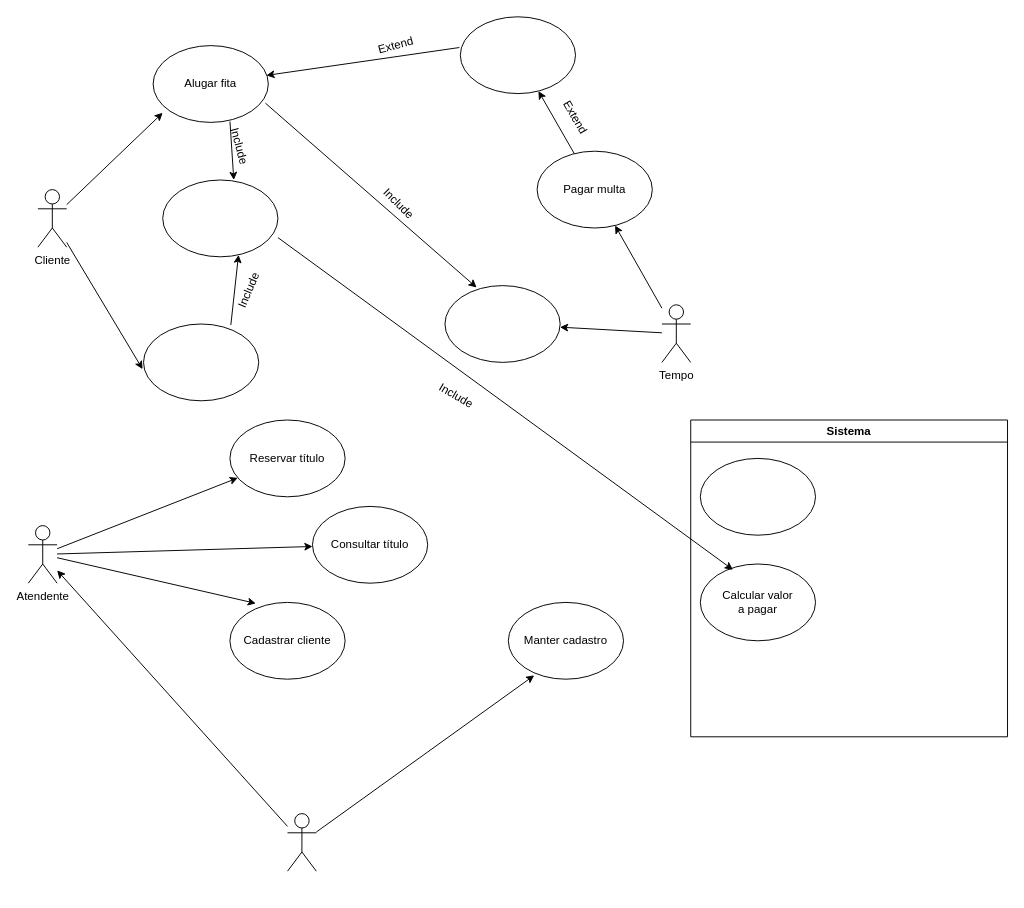
This 1024x908 diagram has some shape labels left out. The shapes that lost their labels are listed below. From the top down, each one's centre as x and y in pixels, then its label:
At [517,55]: "Devolver fita".
At [220,218]: "Efetuar pagamento".
At [502,323]: "Gerenciar bloqueio/desbloqueio".
At [201,362]: "Comprar fita".
At [757,496]: "Manter dados".
At [301,842]: "Gerente".
